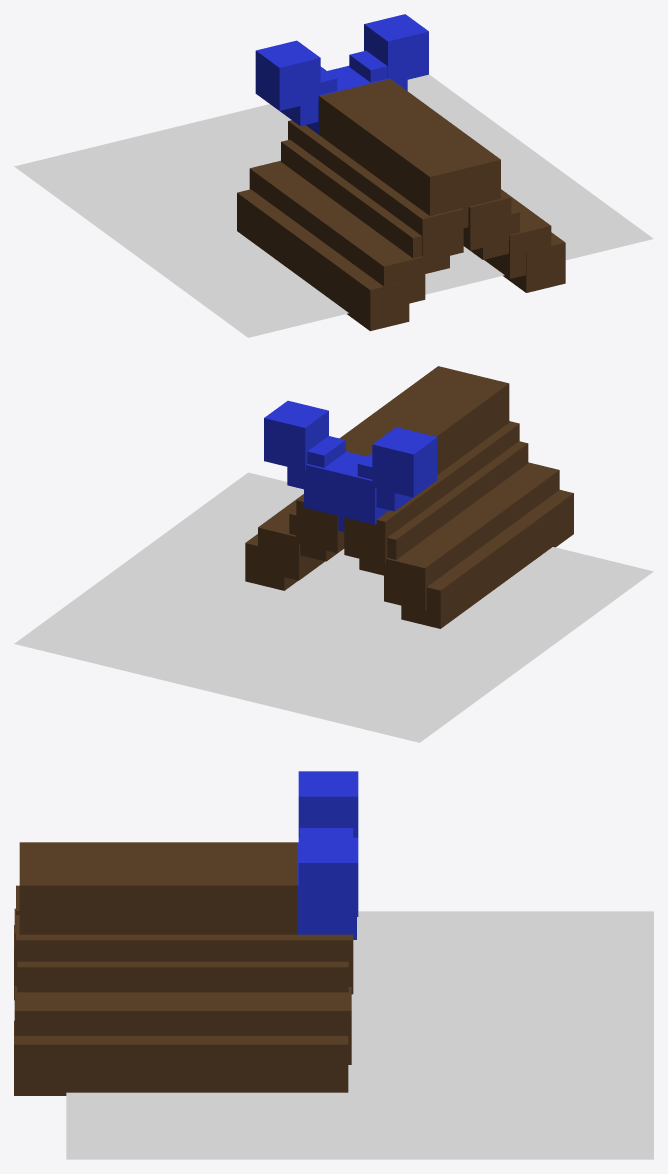
File: tent.fbx
3 views of the same model, one above another, from view 1: azimuth 30°, elevation 25°; view 2: azimuth 150°, elevation 25°; view 3: azimuth 270°, elevation 25° (orthographic). The views are drawn at different scales.
Visible parts, largest first — view 1: Cube.005, Plane; view 2: Plane, Cube.005; view 3: Plane, Cube.005.
Part boxes in pixels (bbox=[...]): Cube.005: bbox=[237, 14, 565, 331]; Plane: bbox=[14, 74, 653, 337]; Plane: bbox=[14, 472, 653, 742]; Cube.005: bbox=[245, 366, 573, 628]; Plane: bbox=[66, 911, 653, 1159]; Cube.005: bbox=[14, 771, 358, 1095].
Size of the model in its own units: 3189 by 1311 by 3473.
